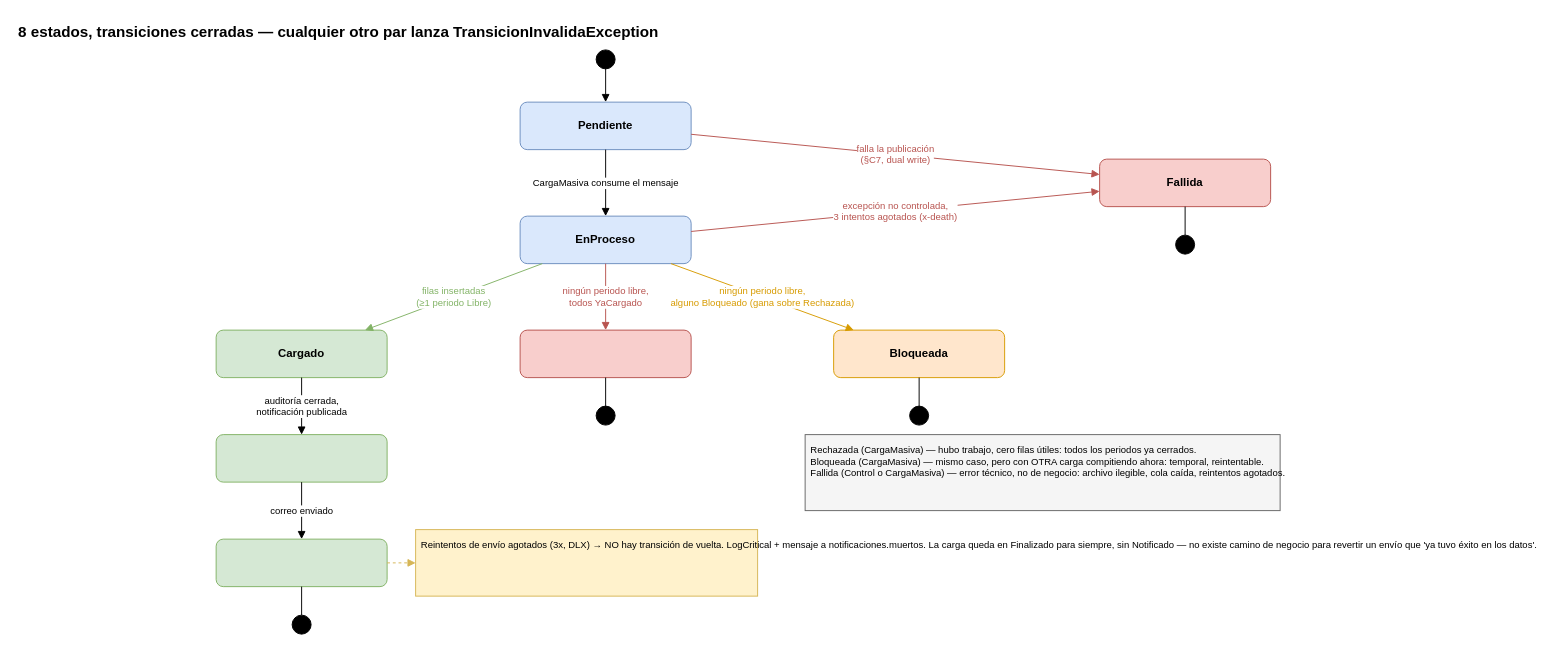
This 1553x651 diagram has some shape labels left out. Here are the shapes that lost their labels. From the top down, the centre of each, then its label:
At (605,353): "Rechazada".
At (301,458): "Finalizado".
At (301,562): "Notificado".
